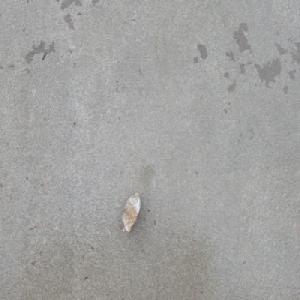Rock: (120, 191, 141, 235)
